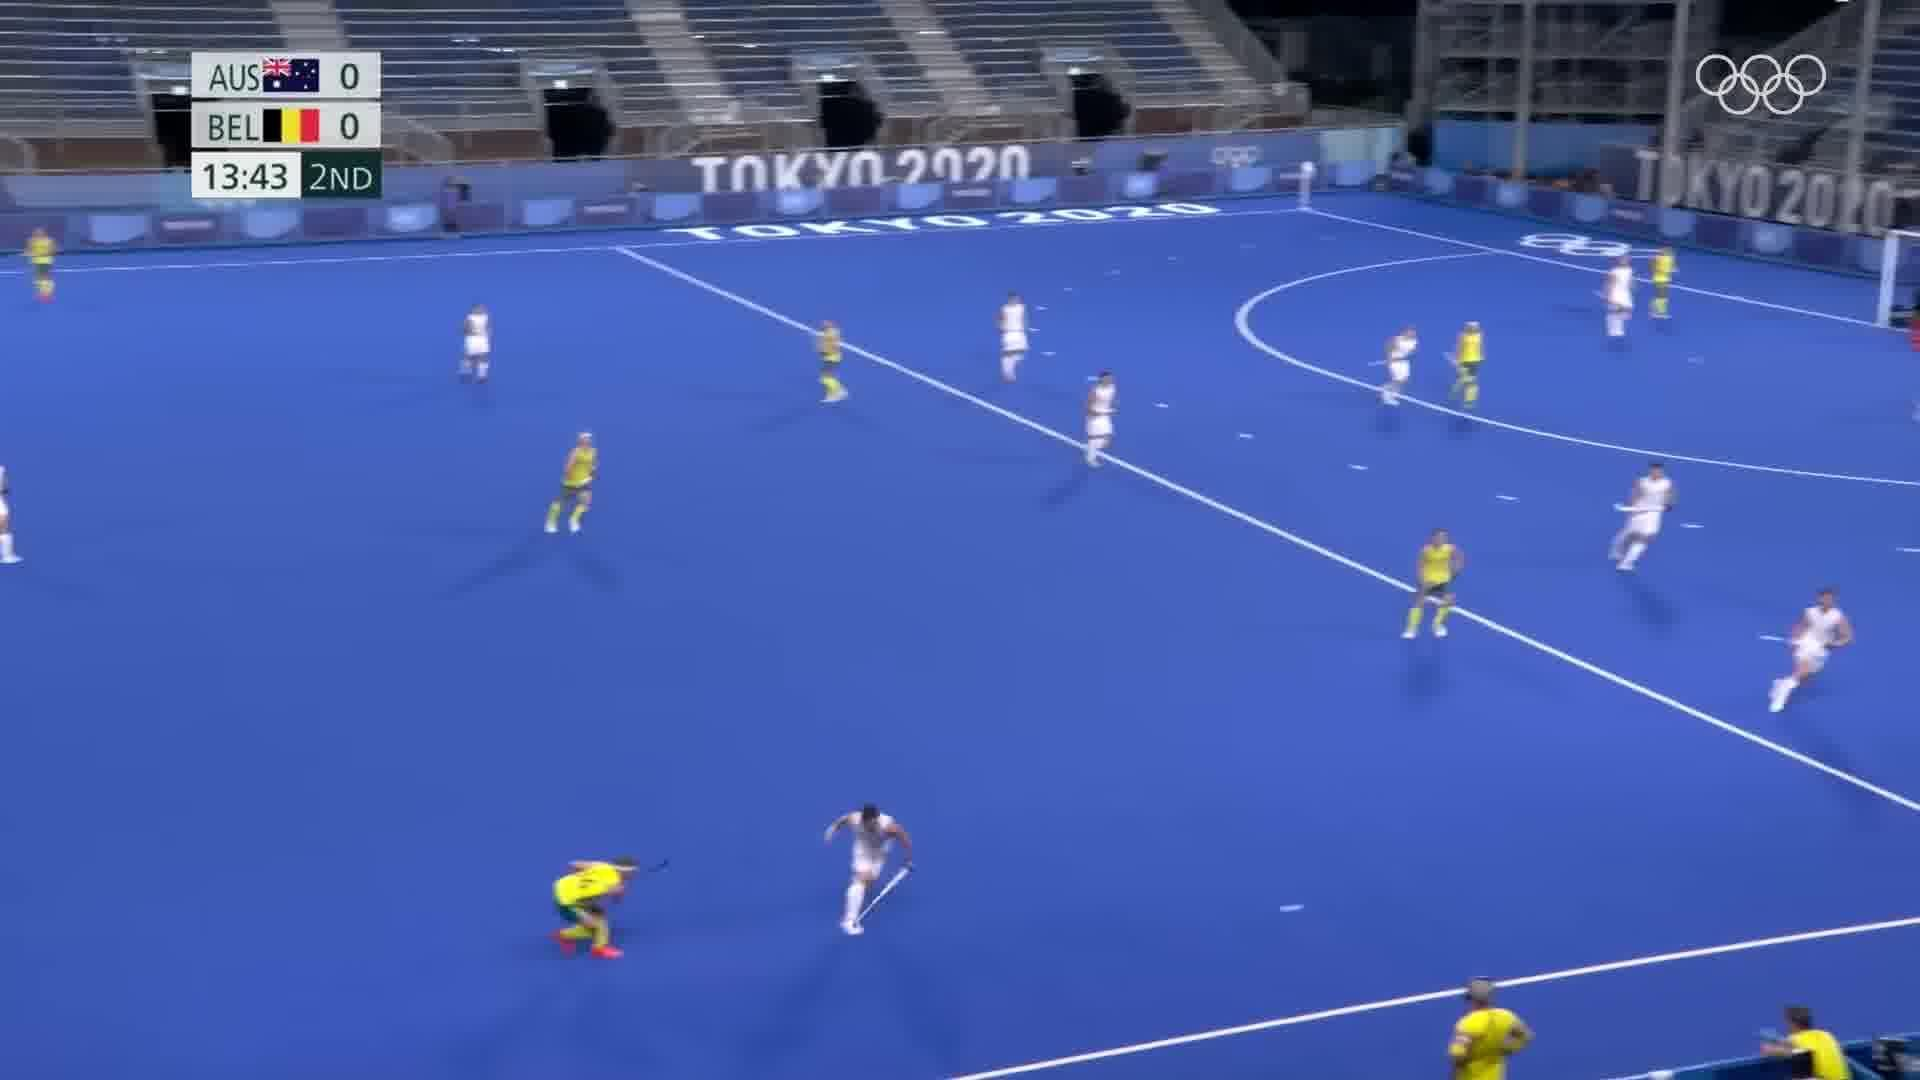ball: (1262, 891, 1327, 923)
